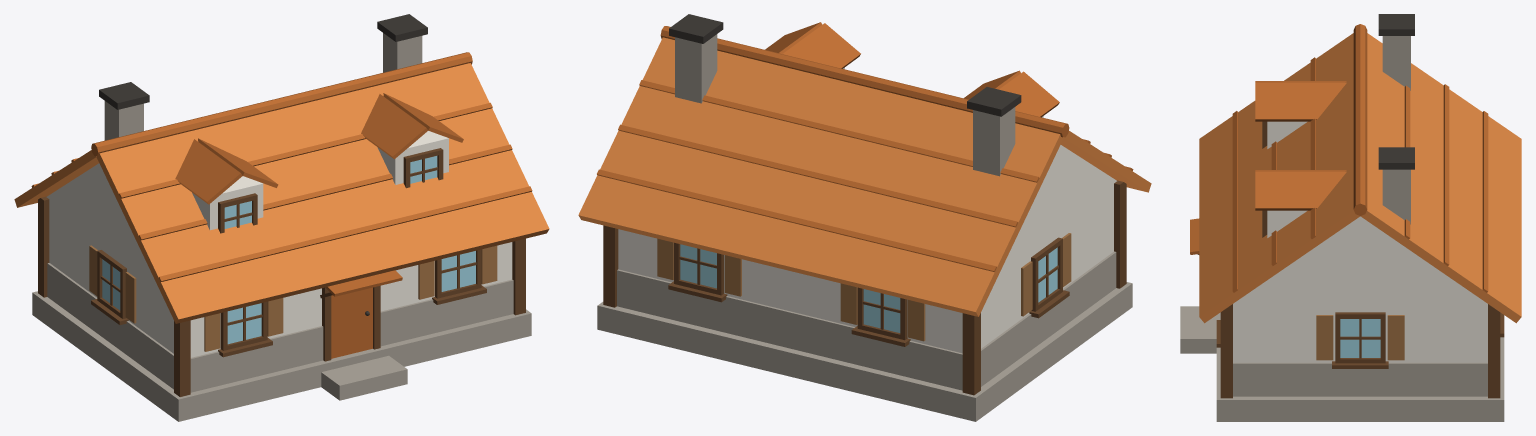
File: house_6.glb
3 views of the same model, side by side, from view 1: azimuth 30°, elevation 25°; view 2: azimuth 150°, elevation 25°; view 3: azimuth 270°, elevation 25° (orthographic). The views are drawn at different scales.
Parts seen in each view (by area): view 1: House_6; view 2: House_6; view 3: House_6.
Part boxes in pixels (x1,y1,x2,y2): House_6: [14, 14, 549, 421]; House_6: [578, 14, 1151, 421]; House_6: [1180, 14, 1521, 421].
Size of the model in its own units: 10.5 by 6.78 by 8.43.
